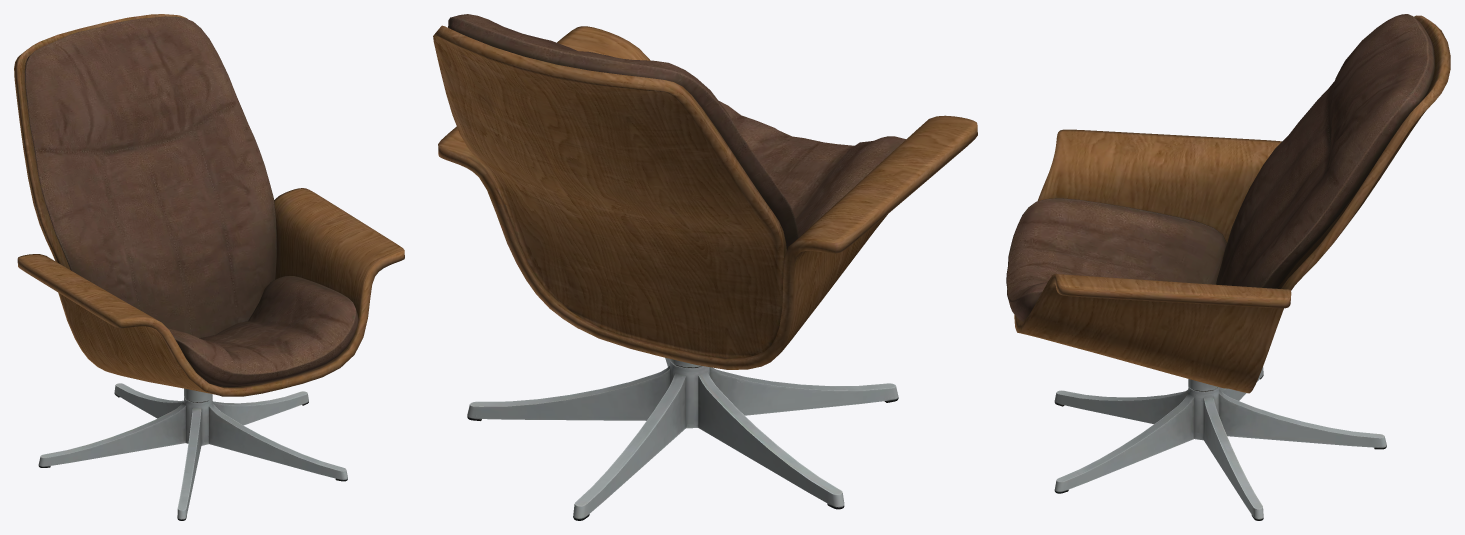
The model's file is lounge_chair.glb.
The picture shows the model from 3 angles, left to right: view 1: azimuth 30°, elevation 25°; view 2: azimuth 150°, elevation 25°; view 3: azimuth 270°, elevation 25°; orthographic projection. The views are drawn at different scales.
Parts seen in each view (by area): view 1: mid_century_lounge_chair; view 2: mid_century_lounge_chair; view 3: mid_century_lounge_chair.
Part boxes in pixels (box(x1,y1,x2,y2)): mid_century_lounge_chair: box(14, 14, 404, 520); mid_century_lounge_chair: box(433, 14, 977, 520); mid_century_lounge_chair: box(1006, 14, 1450, 520).
Size of the model in its own units: 1.01 by 1.17 by 1.19.
Materials: 1 (1 with a texture image).
